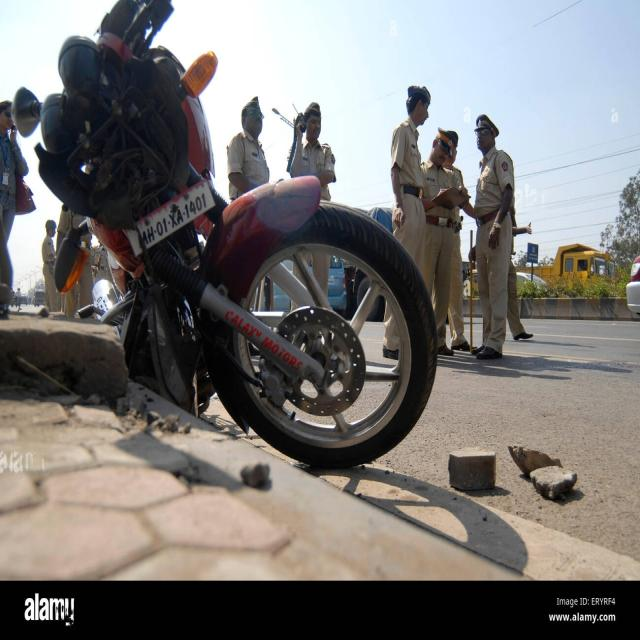accident: (12, 0, 436, 467)
